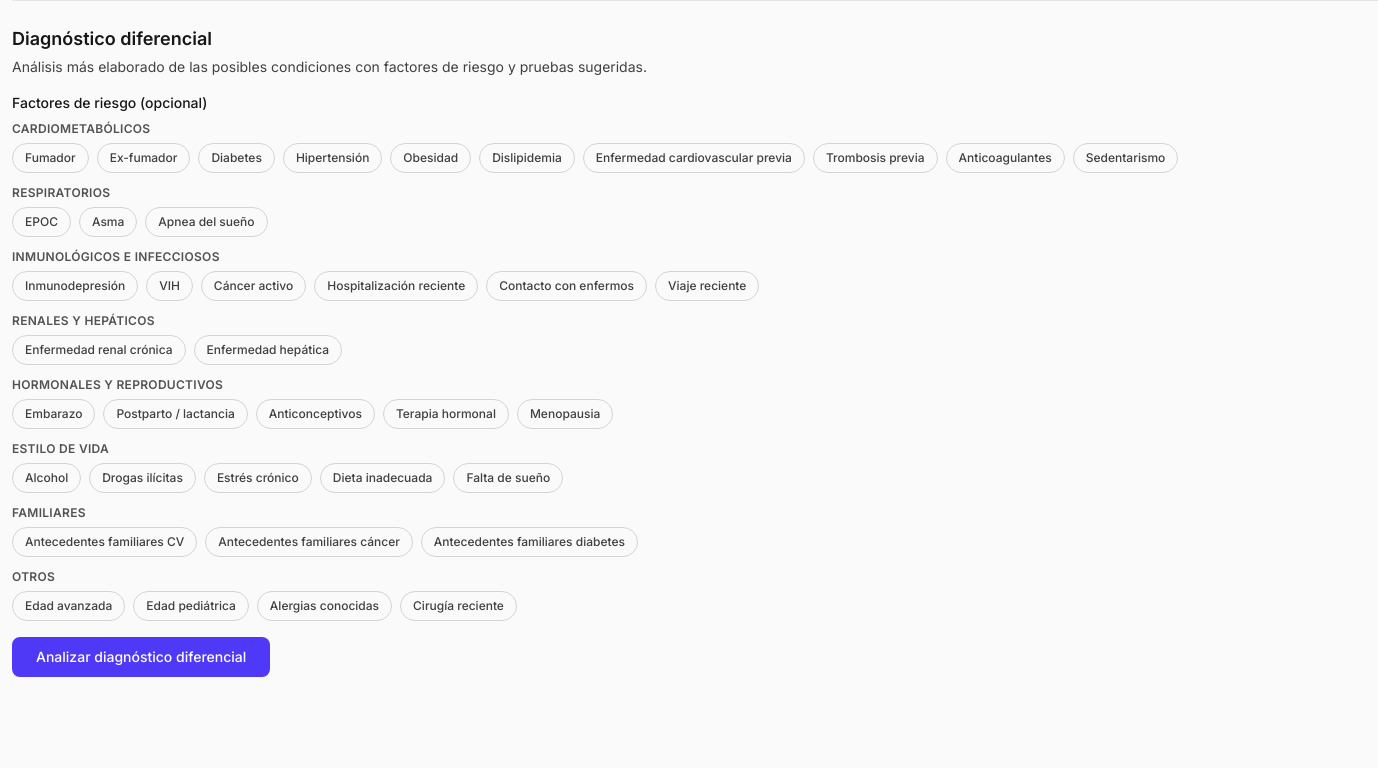
DifferentialSection › muestra estado vacío cuando no hay coincidencias
What coordinates should you click on to do the following:
click the button "Analizar diagnóstico diferencial"
I would click on:
 (141, 657)
Its box is [12, 637, 270, 677].
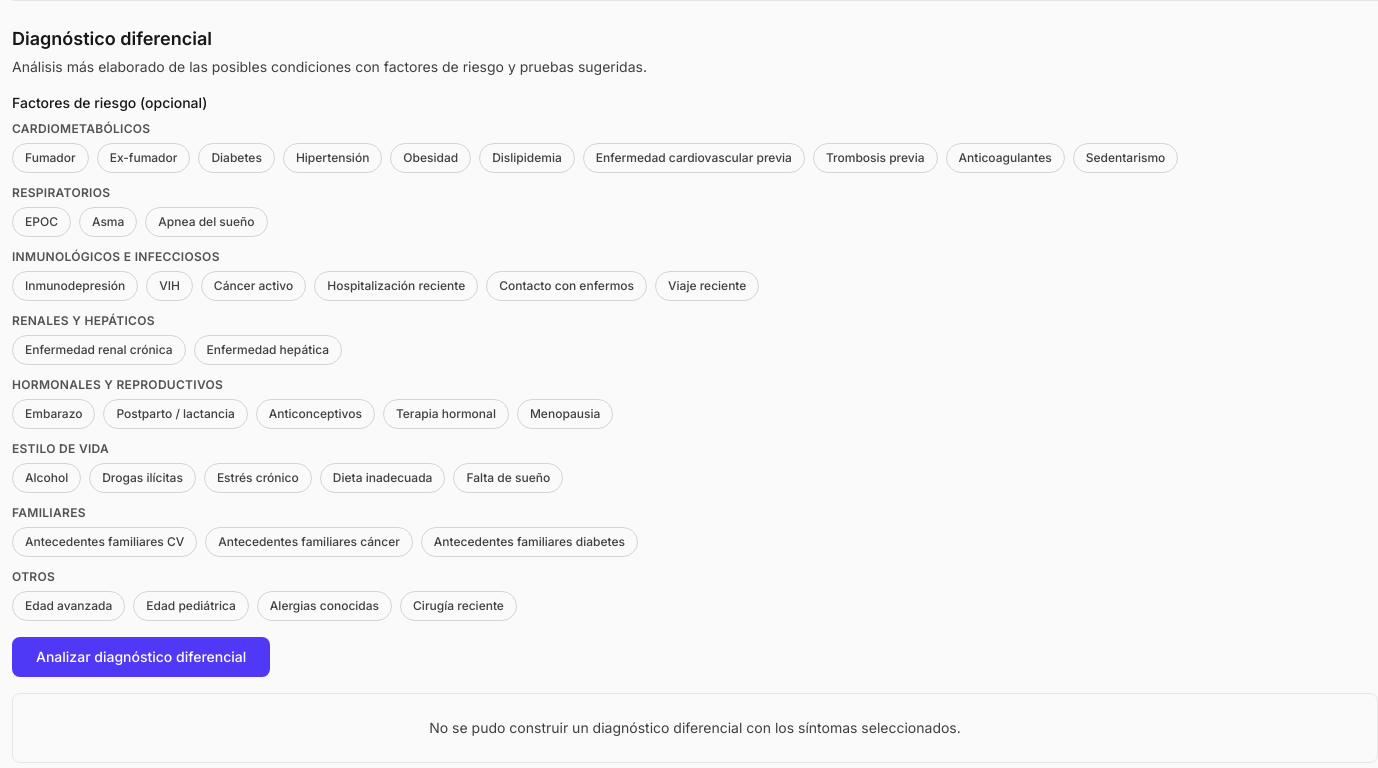
expect the text "No se pudo construir un diagnóstico diferencial" is shown: met, box [429, 719, 961, 736]
